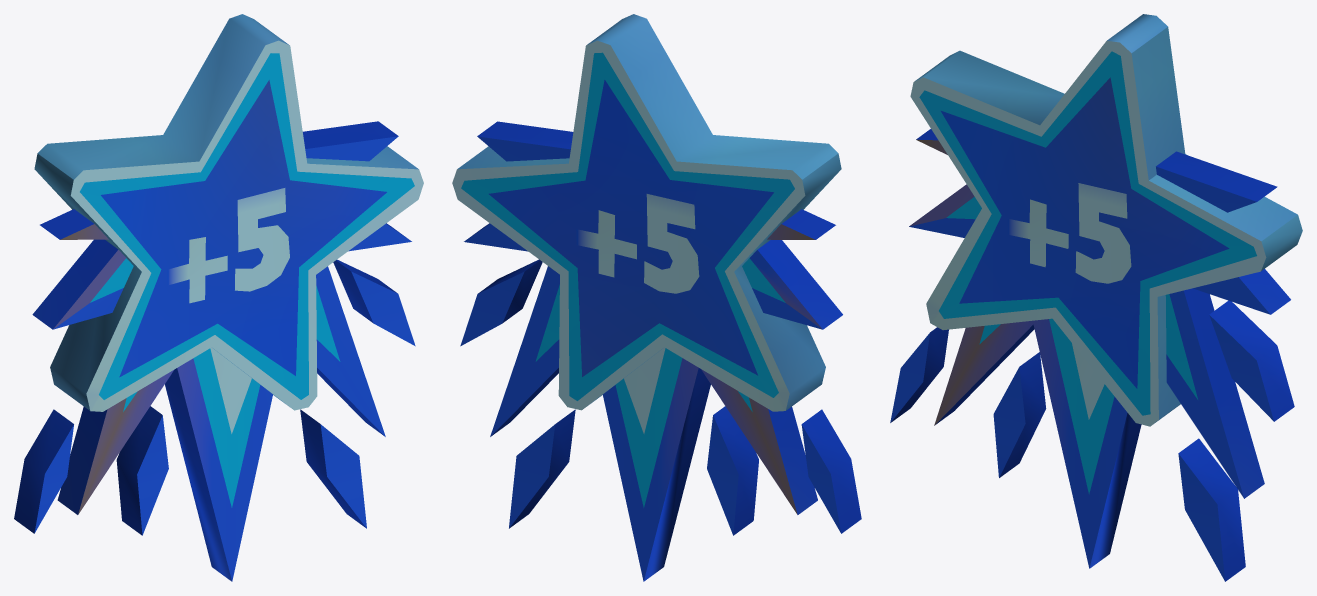
The model's file is ScoreBooster.obj.
The picture shows the model from 3 angles, left to right: view 1: azimuth 30°, elevation 25°; view 2: azimuth 150°, elevation 25°; view 3: azimuth 330°, elevation 25°; orthographic projection.
Parts seen in each view (by area): view 1: 1; view 2: 1; view 3: 1.
Part boxes in pixels (x1,y1,x2,y2): 1: [14, 14, 423, 581]; 1: [452, 14, 861, 581]; 1: [890, 14, 1302, 581].
Size of the model in its own units: 0.226 by 0.3045 by 0.0372.
